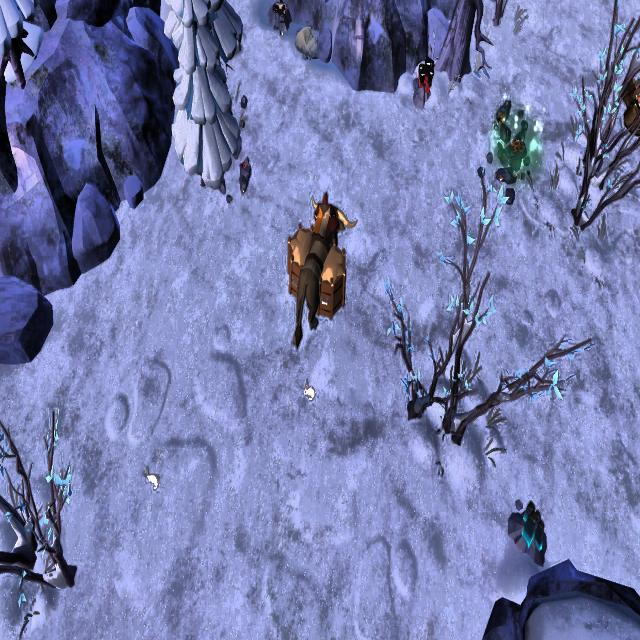ore_t4: (520, 495, 545, 553)
ore_t5: (416, 53, 434, 92)
